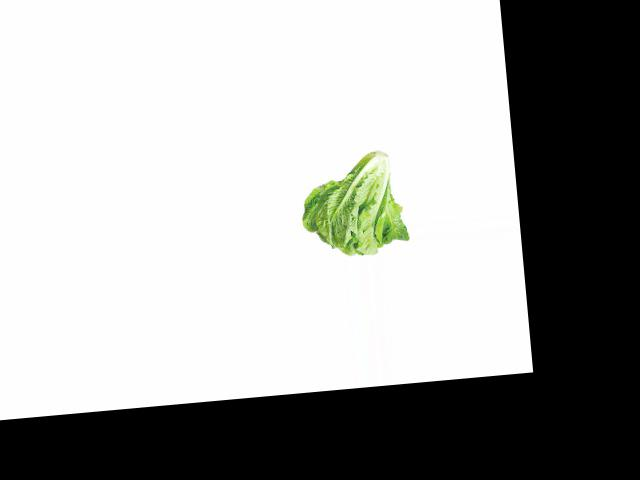lettuce: (294, 143, 408, 261)
